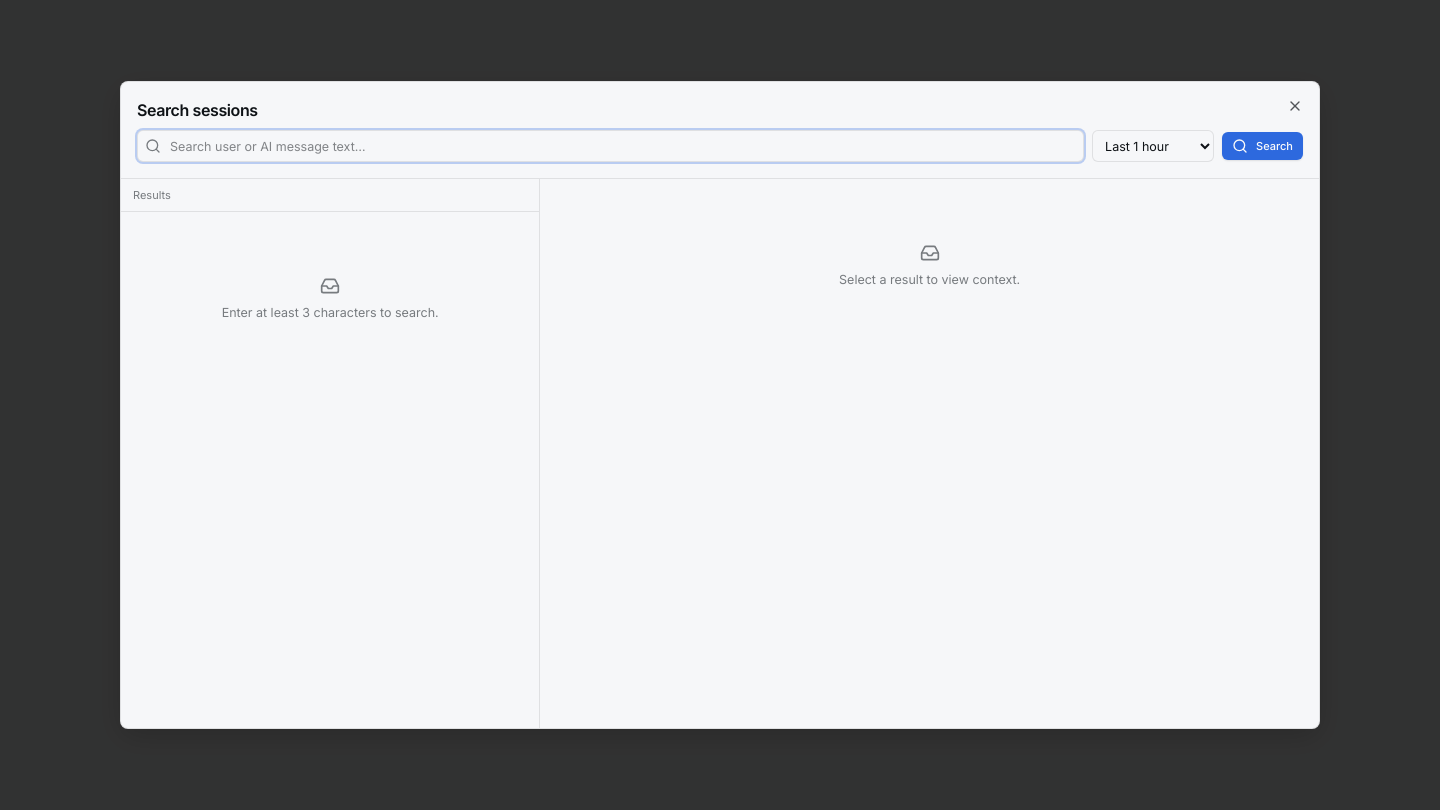
Test: SessionSearchDialog interactions › loads earlier blocks with blockBeforeCursor and prepends them
This screenshot has width=1440, height=810.
Step 1. Type "refund" into the field named "Search message text" → (611, 146), box 137,130 -> 1084,162
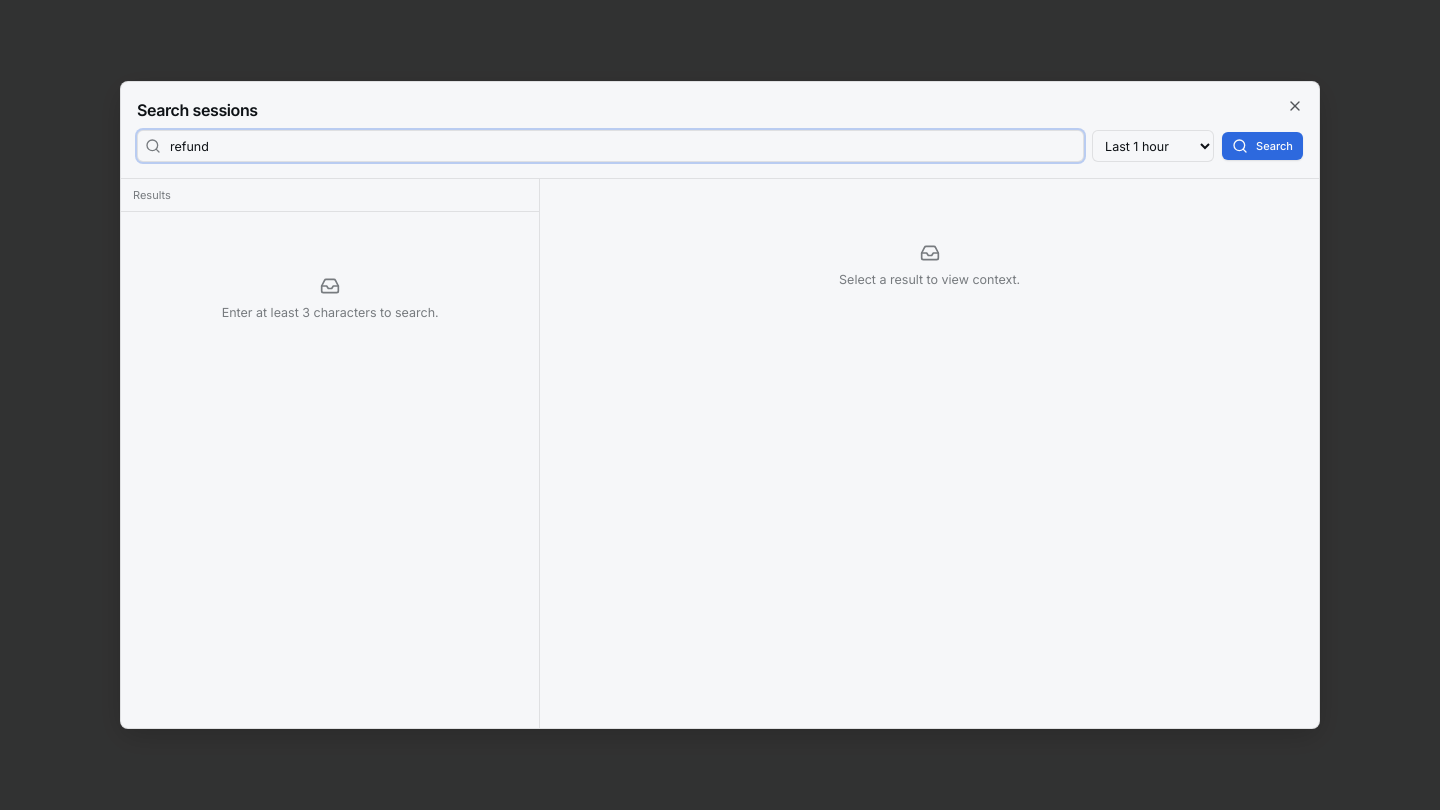
Step 2. Click the button "Search" → (1263, 146), box 1222,132 -> 1303,160
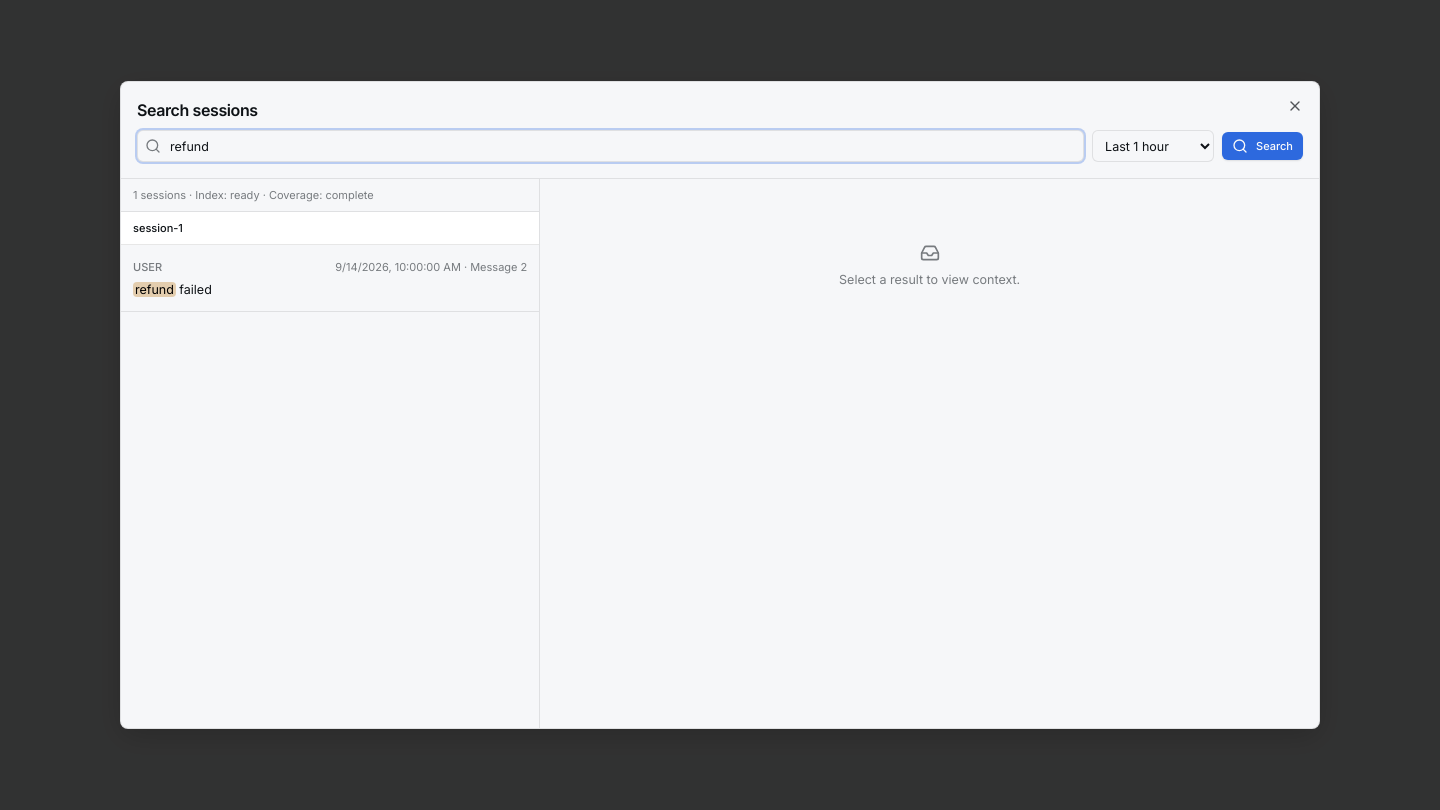
Now the button "user 9/14/2026, 10:00:00 AM · Message 2 refund failed" is shown
Step 3. Click the button "user 9/14/2026, 10:00:00 AM · Message 2 refund failed" → (398, 267), box 121,245 -> 539,312
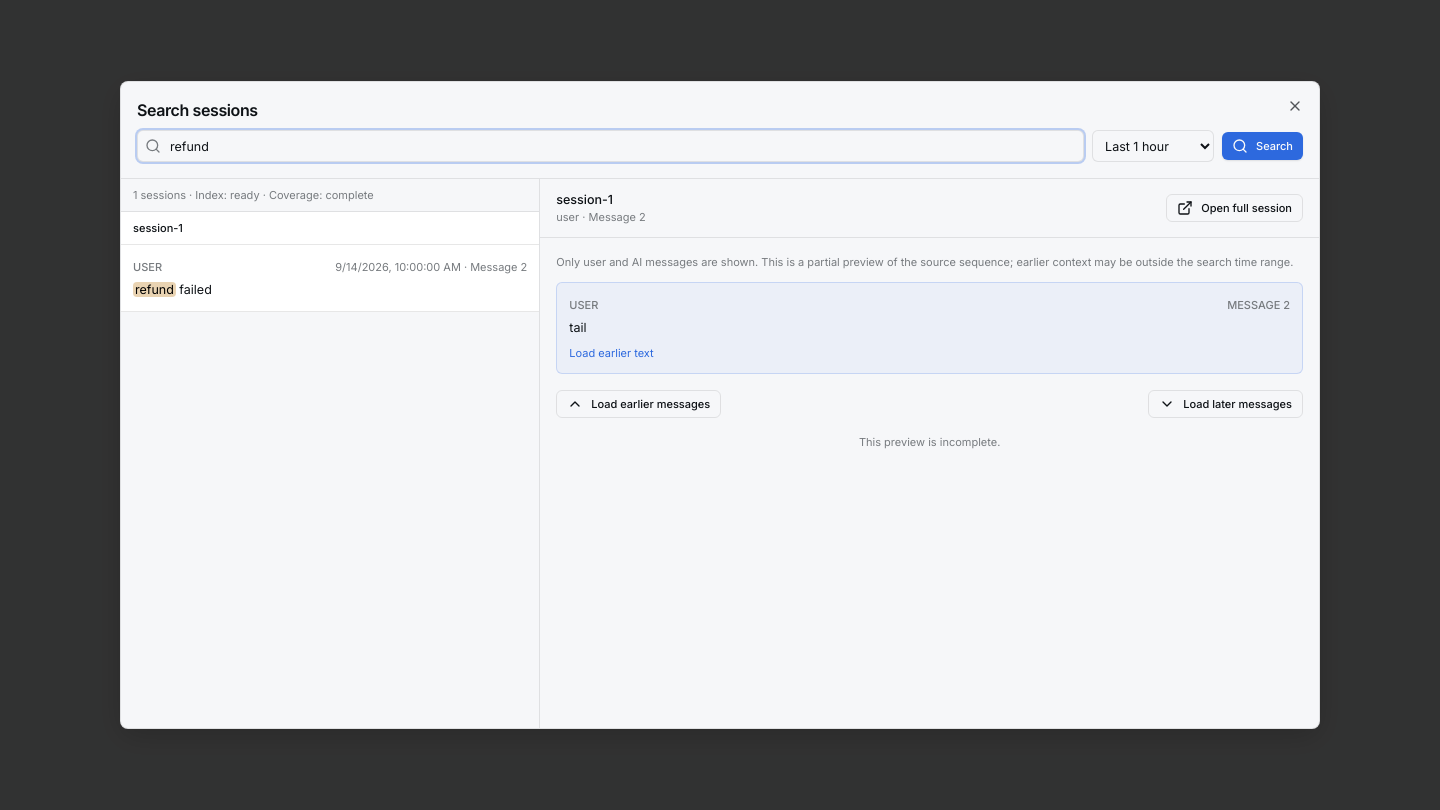
Now the element named "Context preview" shows "tail", box 569,320 -> 586,335
Step 4. Click the button "Load earlier text" → (612, 353), box 569,345 -> 654,361
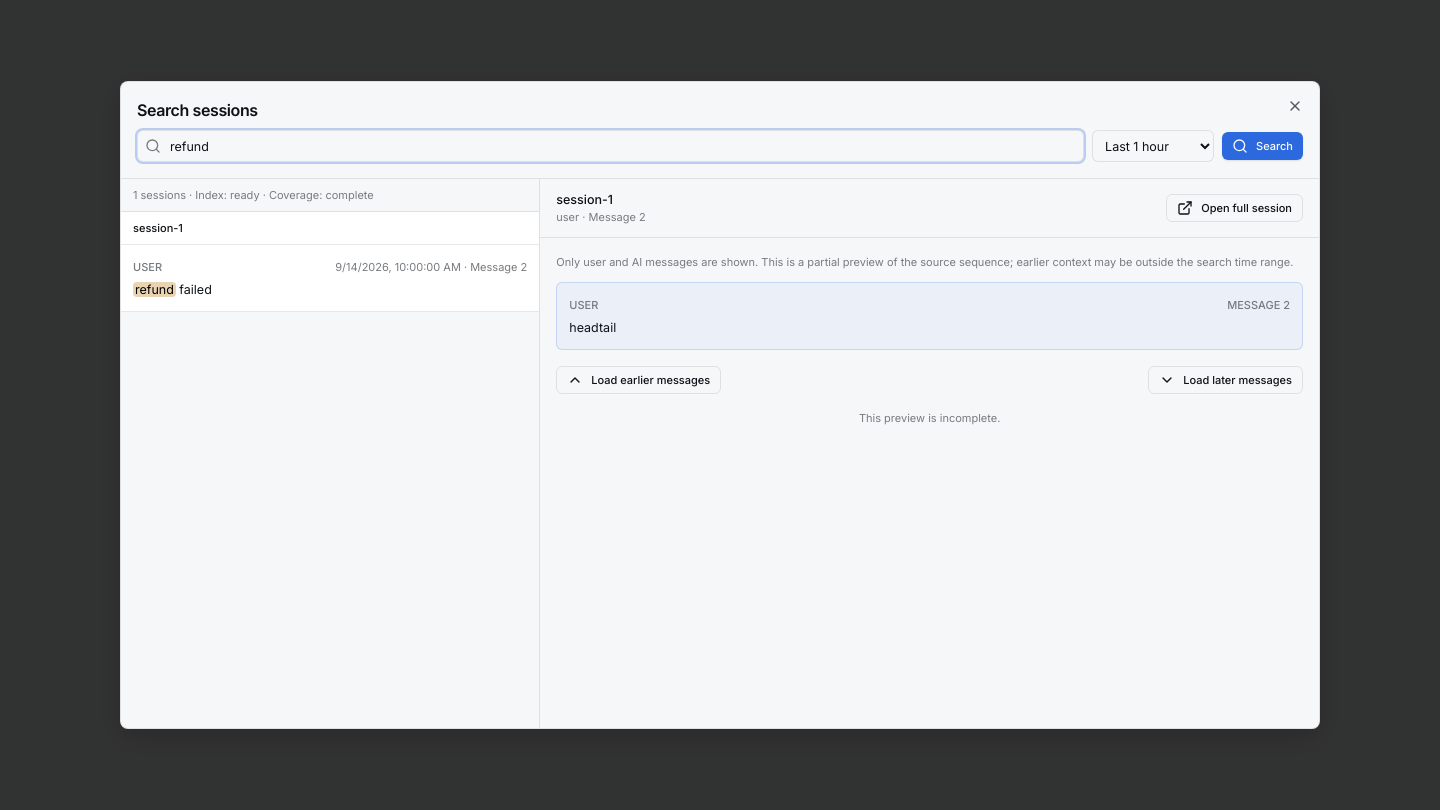
Now the element named "Context preview" shows "head", box 569,320 -> 599,335
